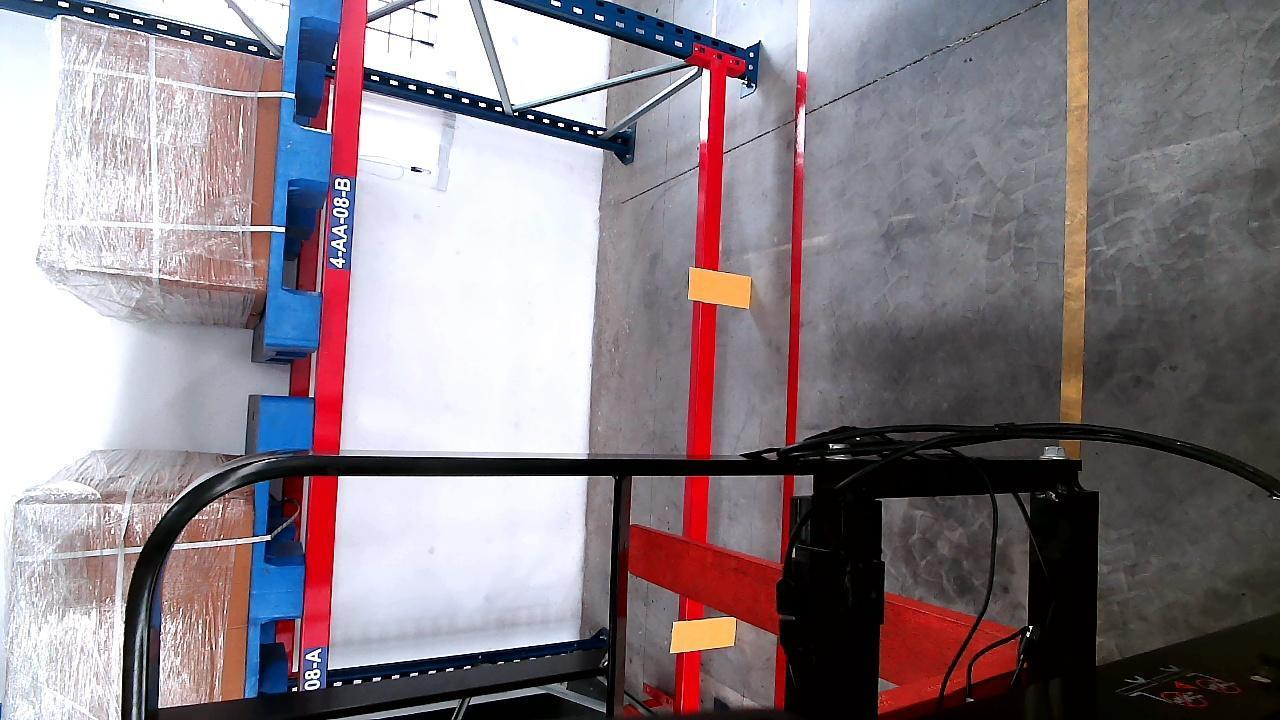h_rack: (298, 0, 366, 692), (677, 70, 731, 713)
orange_strip: (673, 615, 739, 654), (693, 268, 752, 306)
small_pallet: (266, 1, 341, 352), (247, 409, 313, 691)
yellow_line: (1062, 0, 1090, 432)
